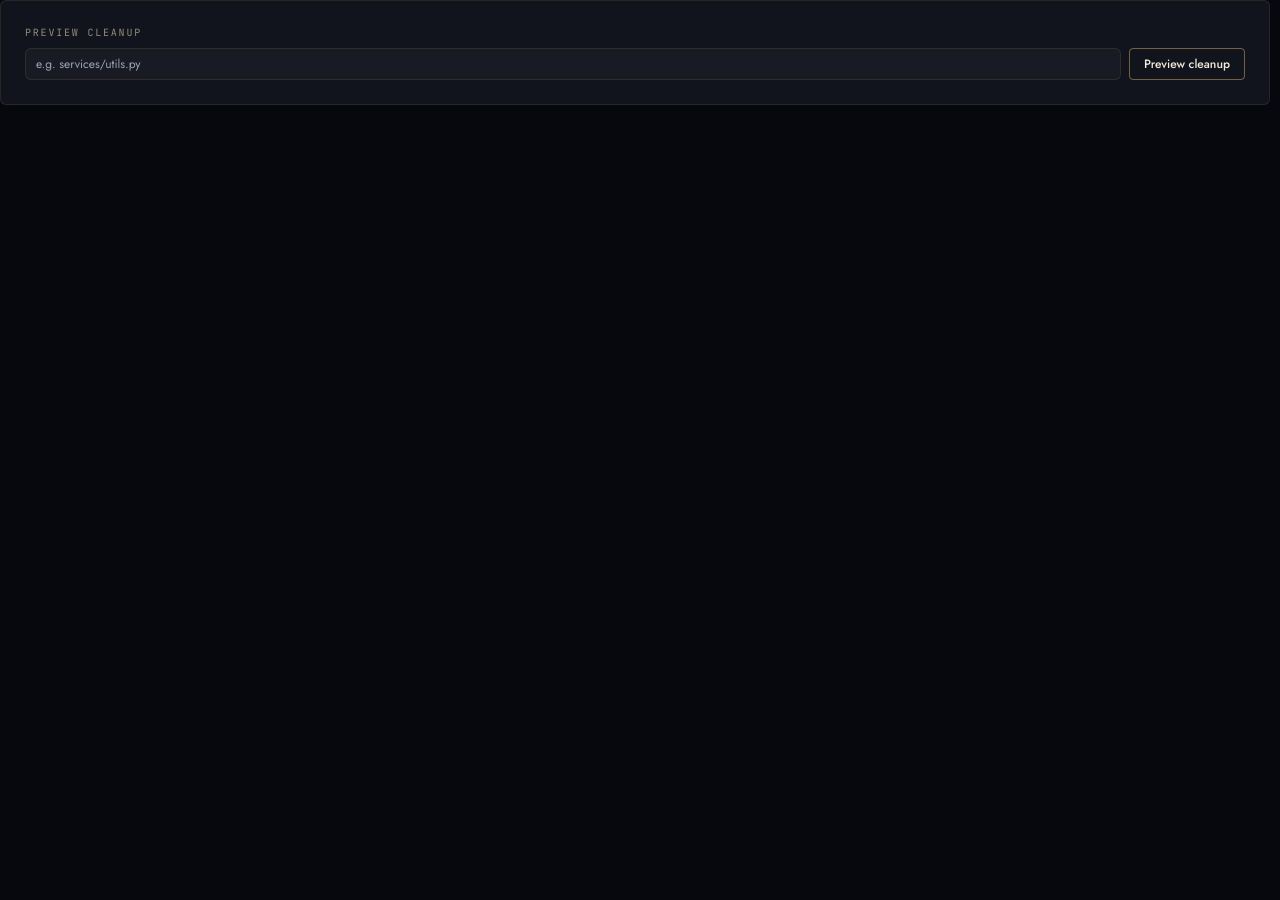
Ticket F-UI · SimplifyFilePanel › Apply requires an explicit second confirmation click before any apply call is made
In the field with test id "simplify-file-path-input": (573, 64) [25,48,1121,80], type "a.py"
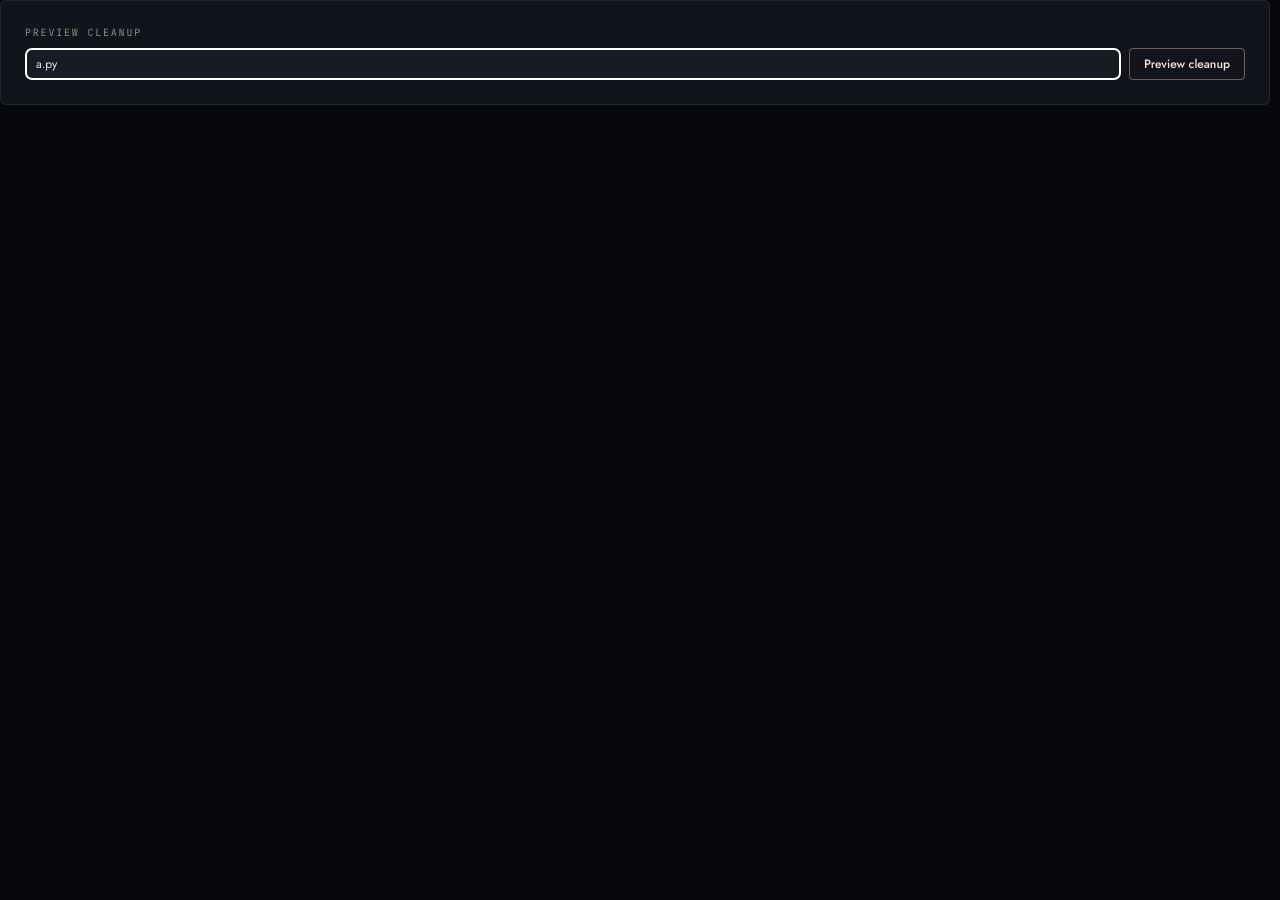
Click the button with test id "simplify-file-preview-btn": (1187, 64) [1129,48,1245,80]
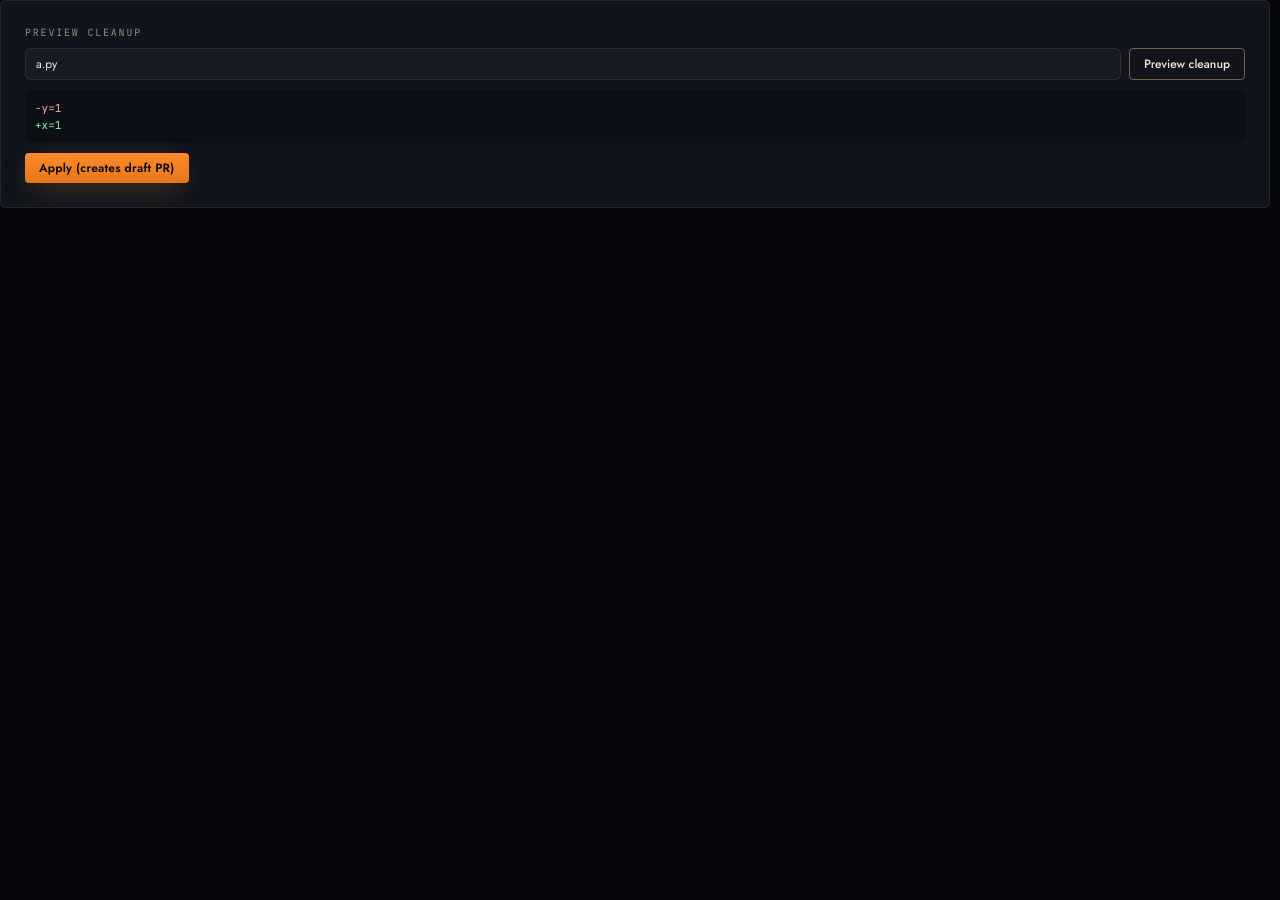
expect the button with test id "simplify-apply-btn" is shown: met
Click the button with test id "simplify-apply-btn": (107, 168) [25,153,188,183]
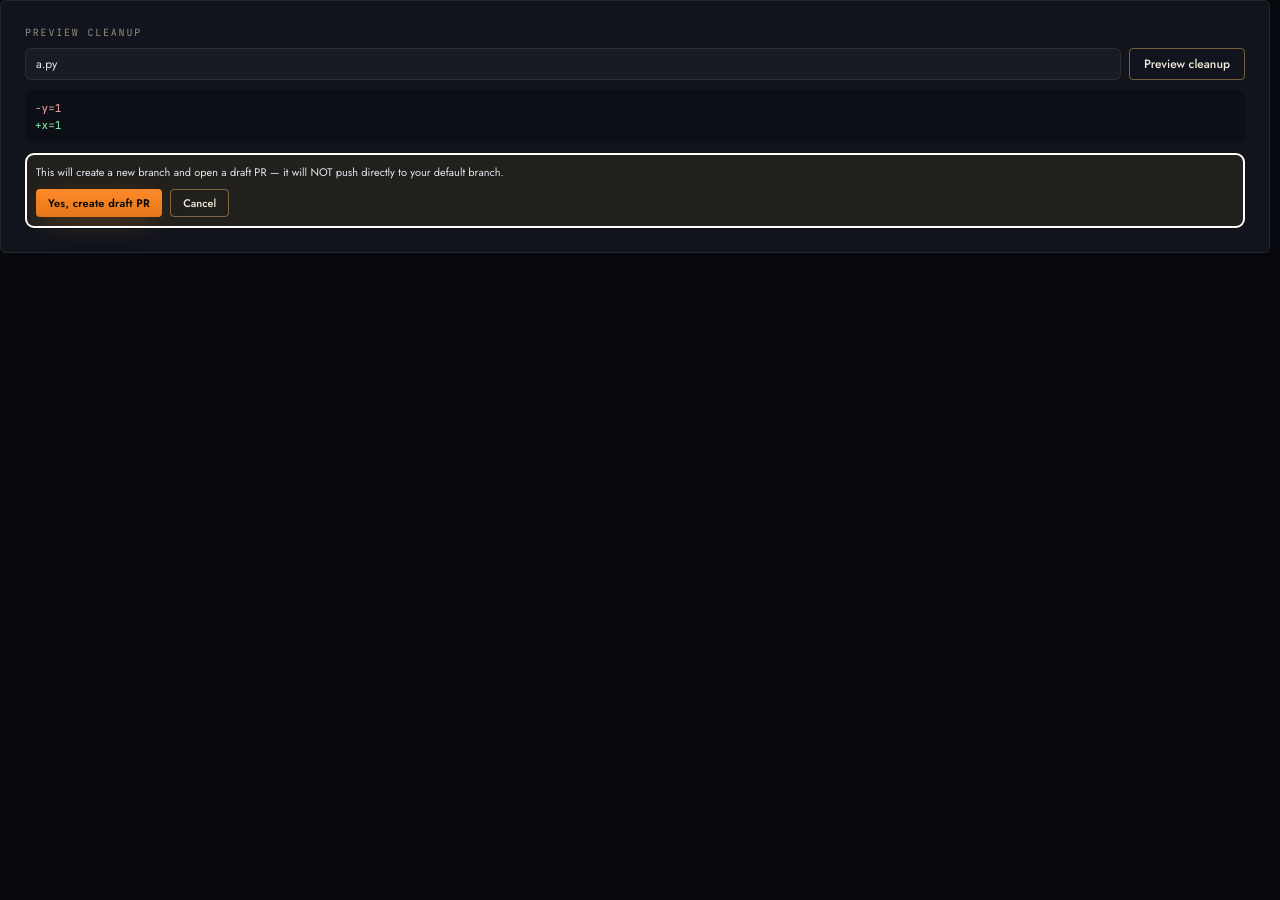
expect the dialog with test id "simplify-apply-confirm" shows "will NOT push directly to your default branch": met, box [36,164,504,180]
Click the button with test id "simplify-apply-confirm-yes": (99, 203) [36,188,162,217]
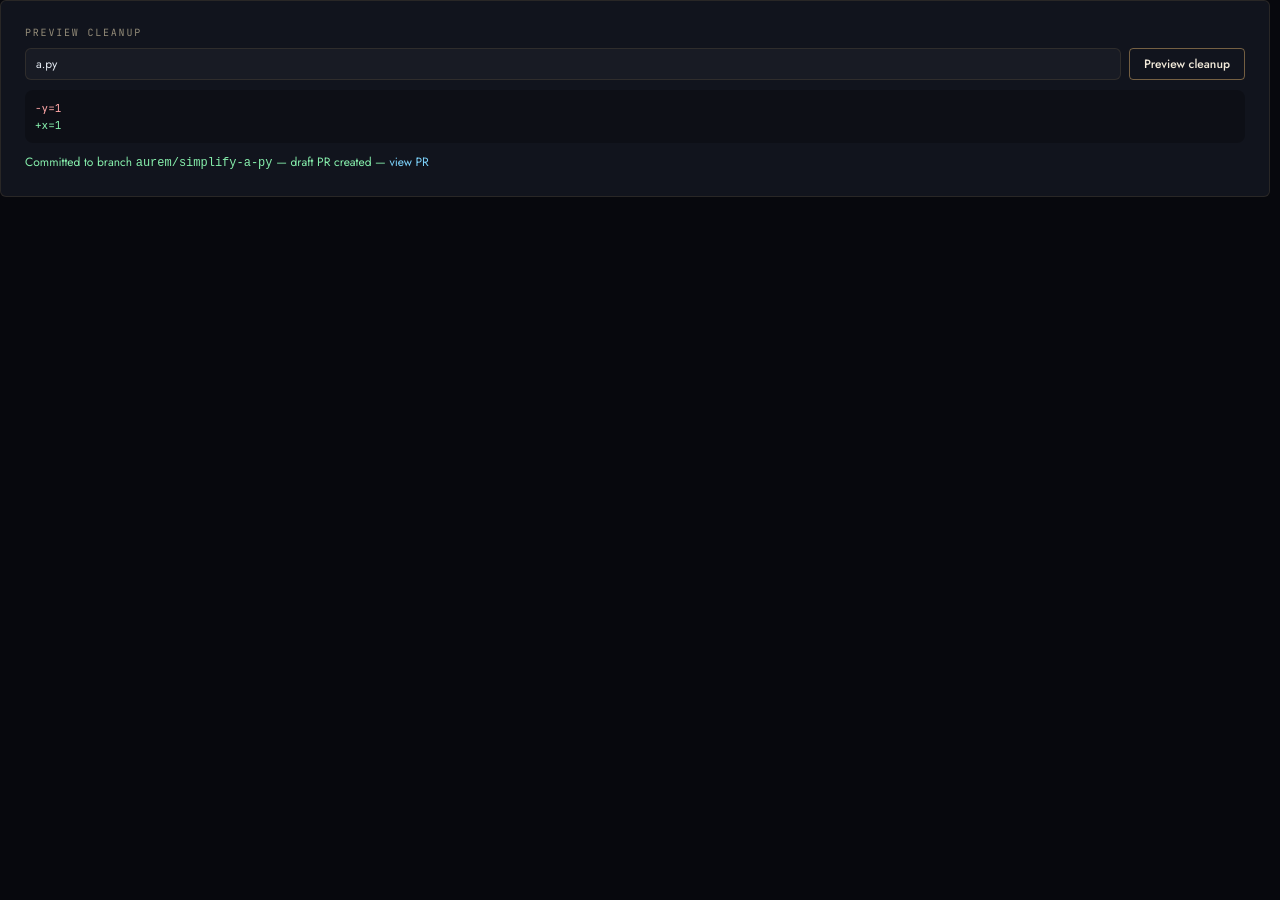
expect the message "Committed to branch aurem/simplify-a-py — draft PR created — view PR" is shown: met, box [25,153,429,171]
